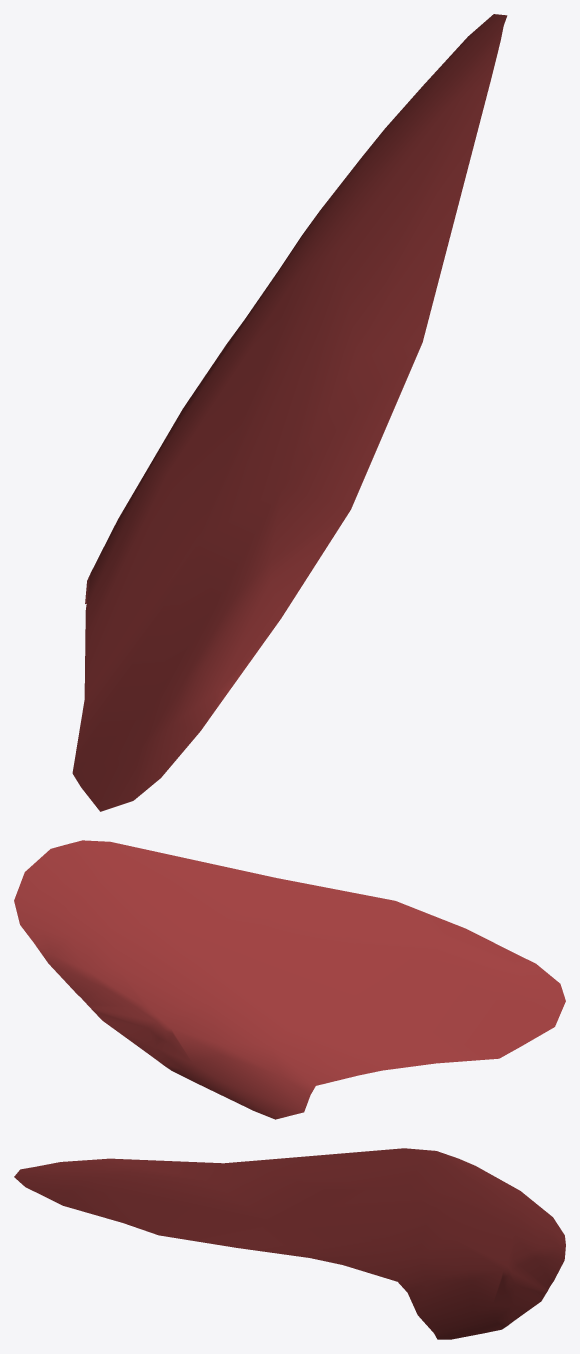
The model's file is serratus-posterior-superior-muscle-e1l.glb.
The picture shows the model from 3 angles, top to bottom: view 1: azimuth 30°, elevation 25°; view 2: azimuth 150°, elevation 25°; view 3: azimuth 270°, elevation 25°; orthographic projection. The views are drawn at different scales.
Parts seen in each view (by area): view 1: Serratus posterior superior muscle.e1l; view 2: Serratus posterior superior muscle.e1l; view 3: Serratus posterior superior muscle.e1l.
Part boxes in pixels (x1,y1,x2,y2): Serratus posterior superior muscle.e1l: [72, 14, 507, 811]; Serratus posterior superior muscle.e1l: [14, 840, 565, 1119]; Serratus posterior superior muscle.e1l: [14, 1148, 565, 1339].
Bounding box in the file's own units: 0.0183 × 0.0112 × 0.0176.
